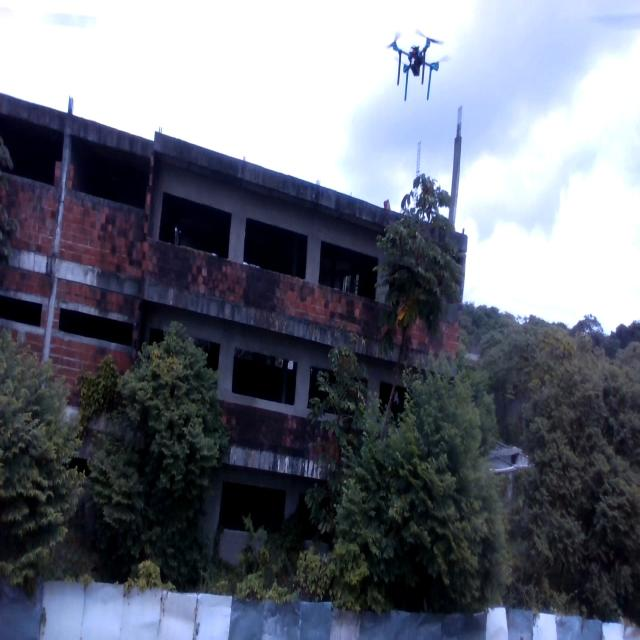-uav-: (381, 19, 452, 107)
